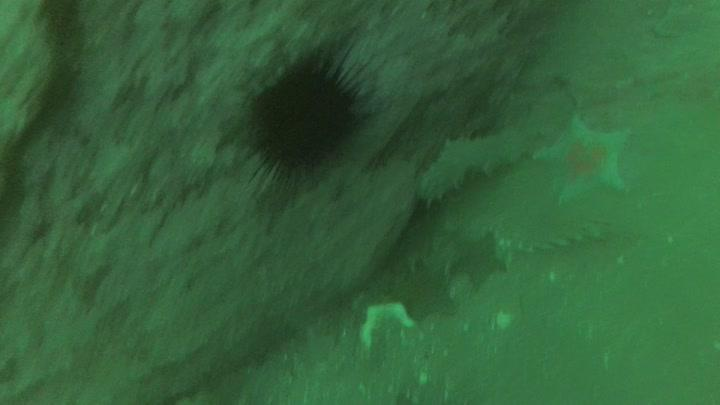urchin: (231, 40, 373, 191)
